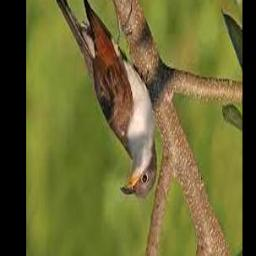Cuckoo: (41, 0, 157, 197)
